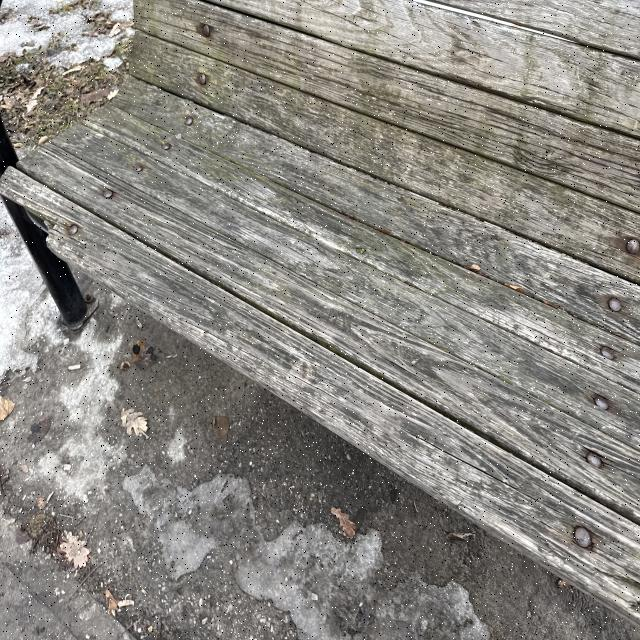Bench: (6, 4, 635, 347)
